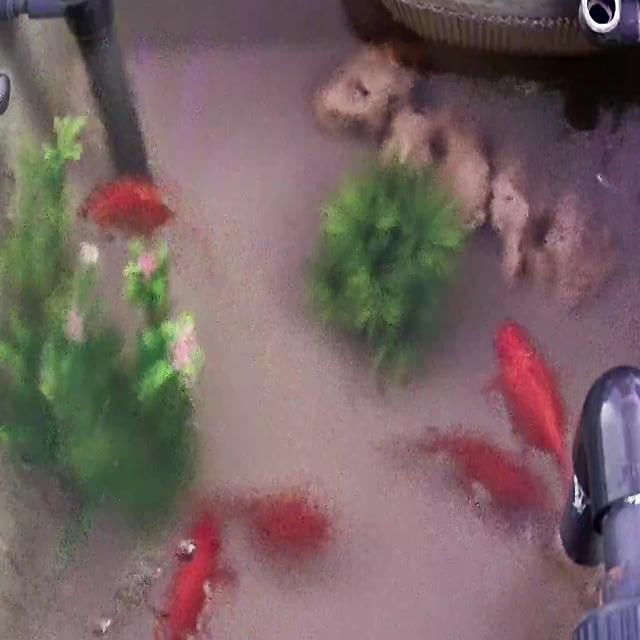fish: (483, 322, 571, 464), (418, 429, 552, 521), (153, 505, 227, 640), (76, 174, 178, 237), (246, 490, 335, 556)
